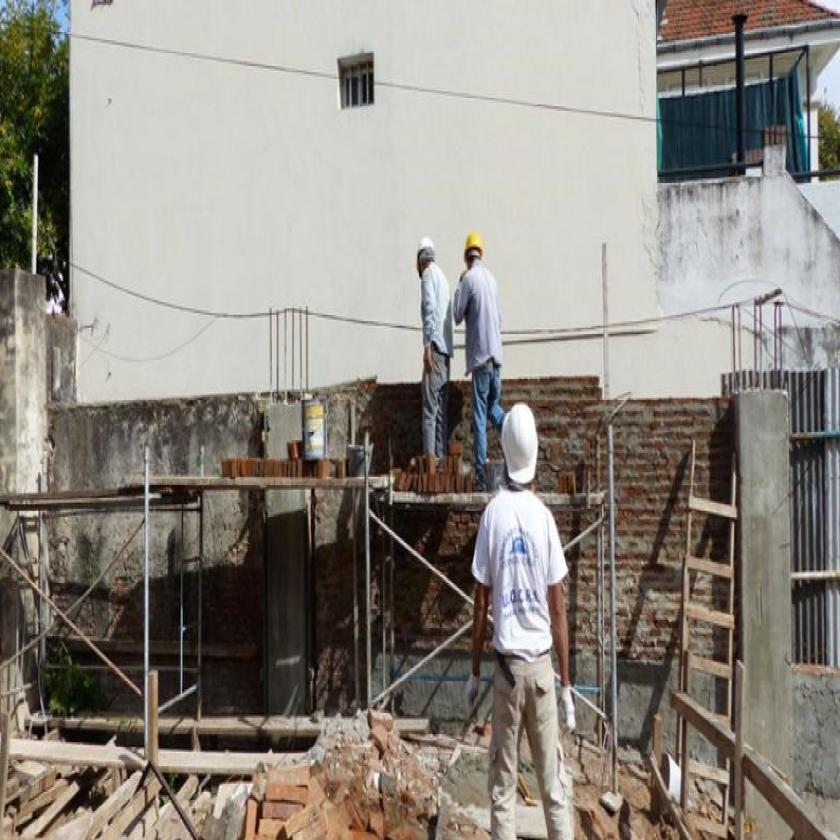Con_casco: (494, 394, 548, 503), (456, 212, 491, 280), (413, 232, 437, 281)
